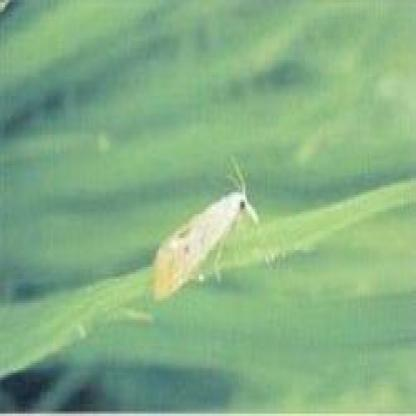stem-borer: (151, 160, 261, 306)
